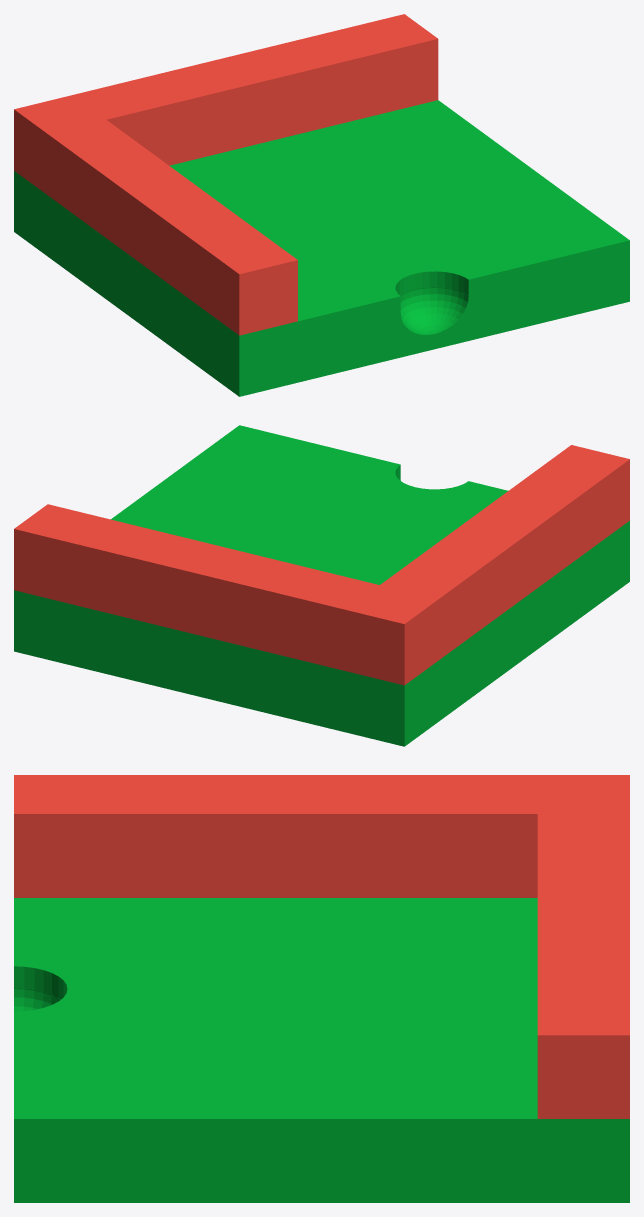
Rendered from hole_corner_mid_right.fbx.
3 renders of one model, top to bottom at view 1: azimuth 30°, elevation 25°; view 2: azimuth 150°, elevation 25°; view 3: azimuth 270°, elevation 25°, orthographic. The views are drawn at different scales.
Parts seen in each view (by area): view 1: green_straight_single_edge, Cube, Cube.001; view 2: green_straight_single_edge, Cube, Cube.001; view 3: green_straight_single_edge, Cube.001, Cube.
Part boxes in pixels (x1,y1,x2,y2): green_straight_single_edge: (14,100,629,396); Cube: (14,14,438,185); Cube.001: (14,109,297,335); green_straight_single_edge: (14,425,629,746); Cube: (14,504,438,685); Cube.001: (346,445,629,685); green_straight_single_edge: (14,898,629,1202); Cube.001: (14,775,537,897); Cube: (537,775,629,1118).
Size of the model in its own units: 200 by 60 by 200.
